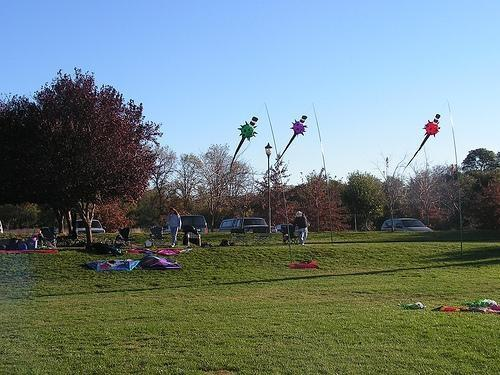car: (381, 218, 435, 232), (231, 217, 269, 234), (178, 214, 208, 233), (76, 220, 106, 233), (272, 226, 277, 232)
